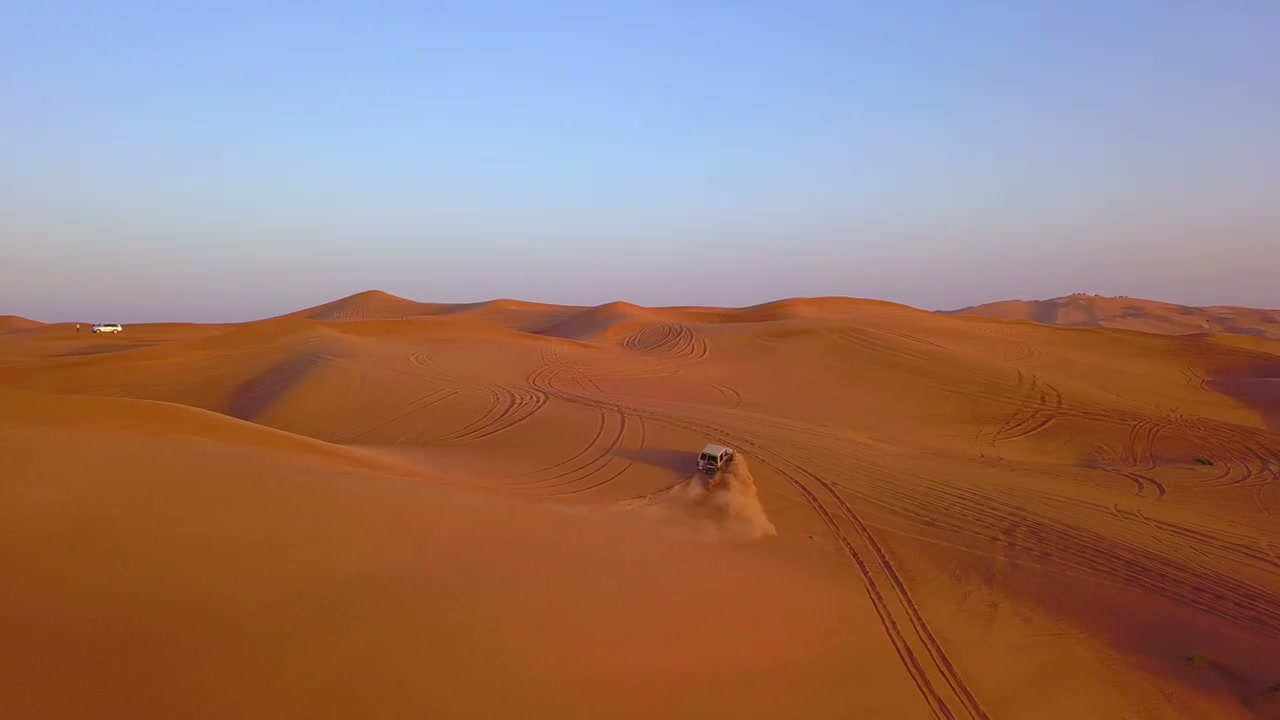vehicle_track: (629, 405, 987, 719), (869, 483, 1279, 636), (409, 352, 547, 444), (493, 407, 626, 493)
